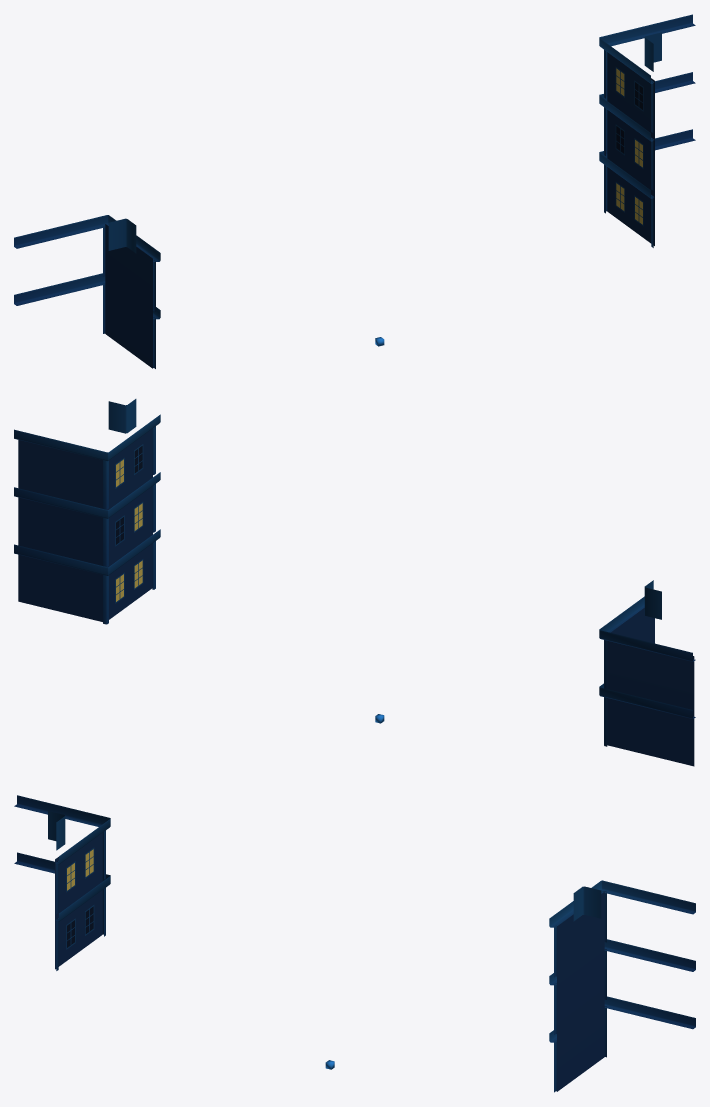
Rendered from FarBackBuilding01Night.fbx.
The picture shows the model from 3 angles, top to bottom: view 1: azimuth 30°, elevation 25°; view 2: azimuth 150°, elevation 25°; view 3: azimuth 330°, elevation 25°; orthographic projection.
Visible parts, largest first — view 1: FarBackBuilding01Night; view 2: FarBackBuilding01Night; view 3: FarBackBuilding01Night.
Part boxes in pixels (<box>): FarBackBuilding01Night: <box>14,14,695,368</box>; FarBackBuilding01Night: <box>14,399,695,766</box>; FarBackBuilding01Night: <box>14,795,695,1092</box>.
Bounding box in the file's own units: 7634 × 2674 × 1017.
